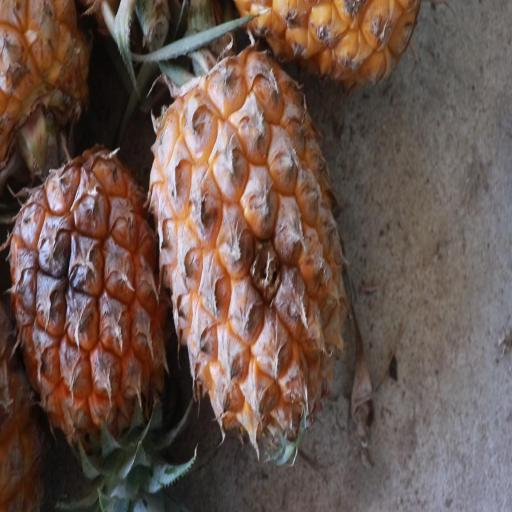Pineapple - v8 v1: (145, 35, 352, 454), (5, 131, 172, 446), (3, 492, 6, 497)
